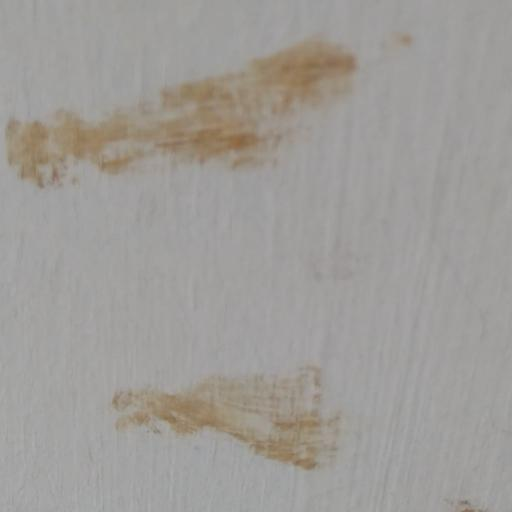stain: (2, 19, 420, 187), (102, 356, 352, 495)
